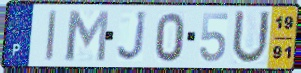0: (152, 9, 187, 64)
5: (198, 12, 230, 64)
I: (44, 8, 59, 63)
J: (116, 9, 149, 64)
M: (64, 9, 112, 64)
U: (230, 8, 272, 67)
